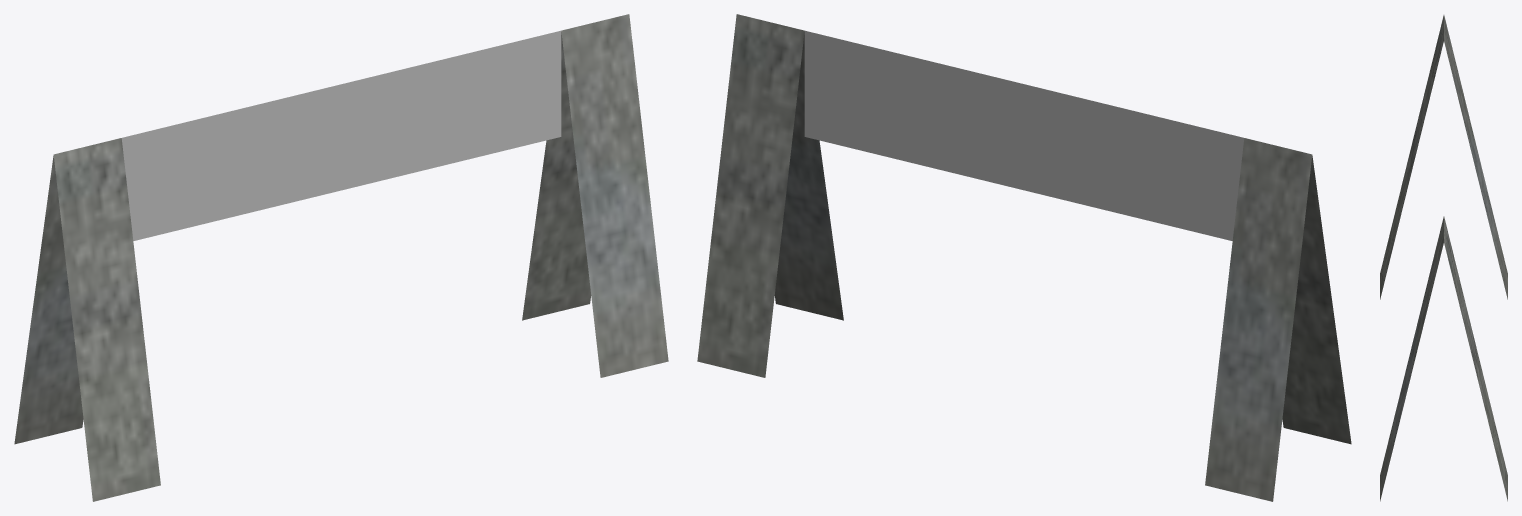
File: detailBarrier_typeB.dae
3 views of the same model, side by side, from view 1: azimuth 30°, elevation 25°; view 2: azimuth 150°, elevation 25°; view 3: azimuth 270°, elevation 25° (orthographic). The views are drawn at different scales.
Visible parts, largest first — view 1: detailBarrier_typeB; view 2: detailBarrier_typeB; view 3: detailBarrier_typeB.
Part boxes in pixels (x1,y1,x2,y2): detailBarrier_typeB: (14, 14, 668, 501); detailBarrier_typeB: (697, 14, 1351, 501); detailBarrier_typeB: (1380, 15, 1507, 501).
Bounding box in the file's own units: 0.567 × 0.3 × 0.134.
